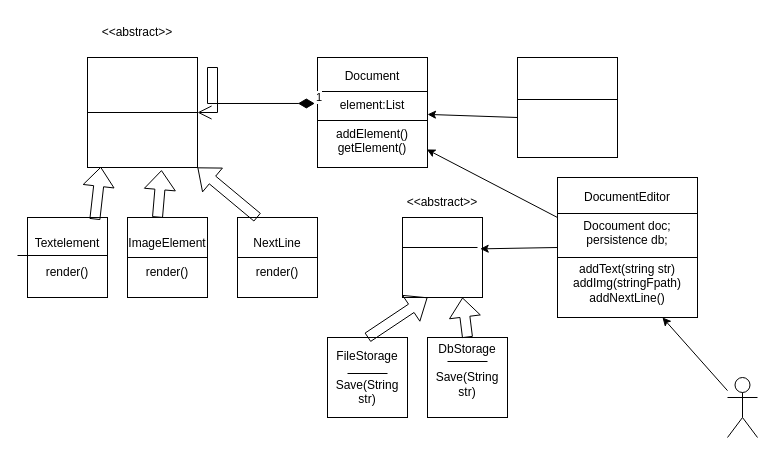
The diagram is 775 pixels wide and 475 high, and some of its shapes have lost their labels. The box of each missing label's shape, as (x1, y1, x2, y2) in pixels:
Actor: (726, 376, 758, 438)
DocumentElement render(): (86, 56, 198, 168)
DocumentRender Document doc; render(): (516, 56, 618, 158)
Persistence Save(String data): (402, 216, 482, 298)
